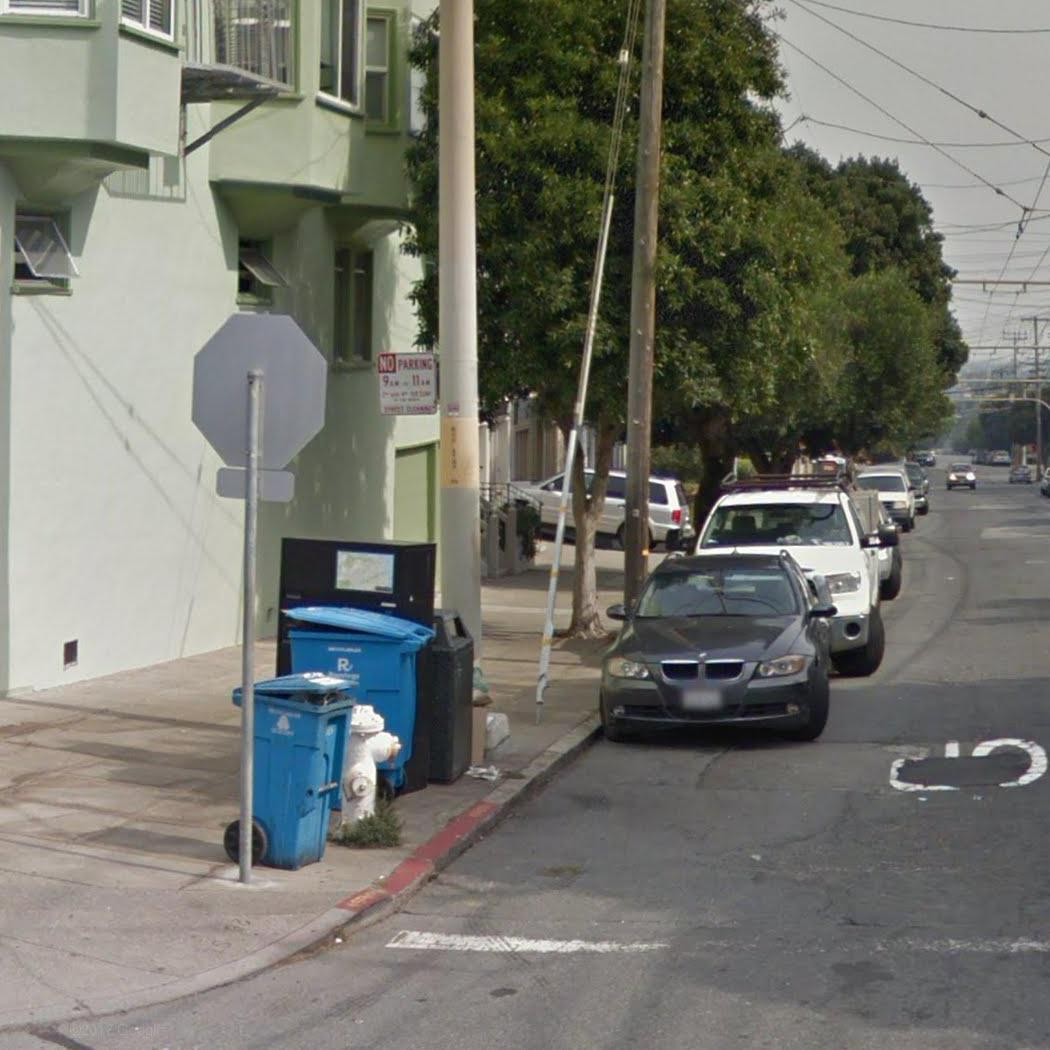No Parking: (373, 350, 441, 421)
